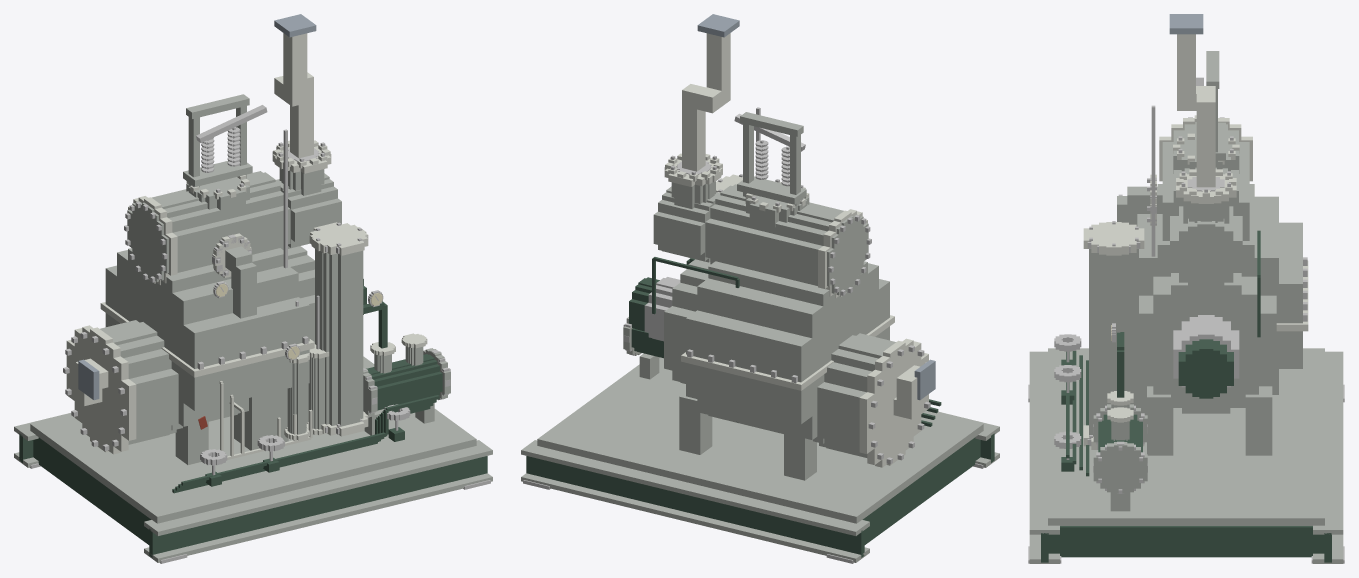
File: assembly.obj
The picture shows the model from 3 angles, left to right: view 1: azimuth 30°, elevation 25°; view 2: azimuth 150°, elevation 25°; view 3: azimuth 270°, elevation 25°; orthographic projection. The views are drawn at different scales.
Size of the model in its own units: 4 by 4.99 by 3.
